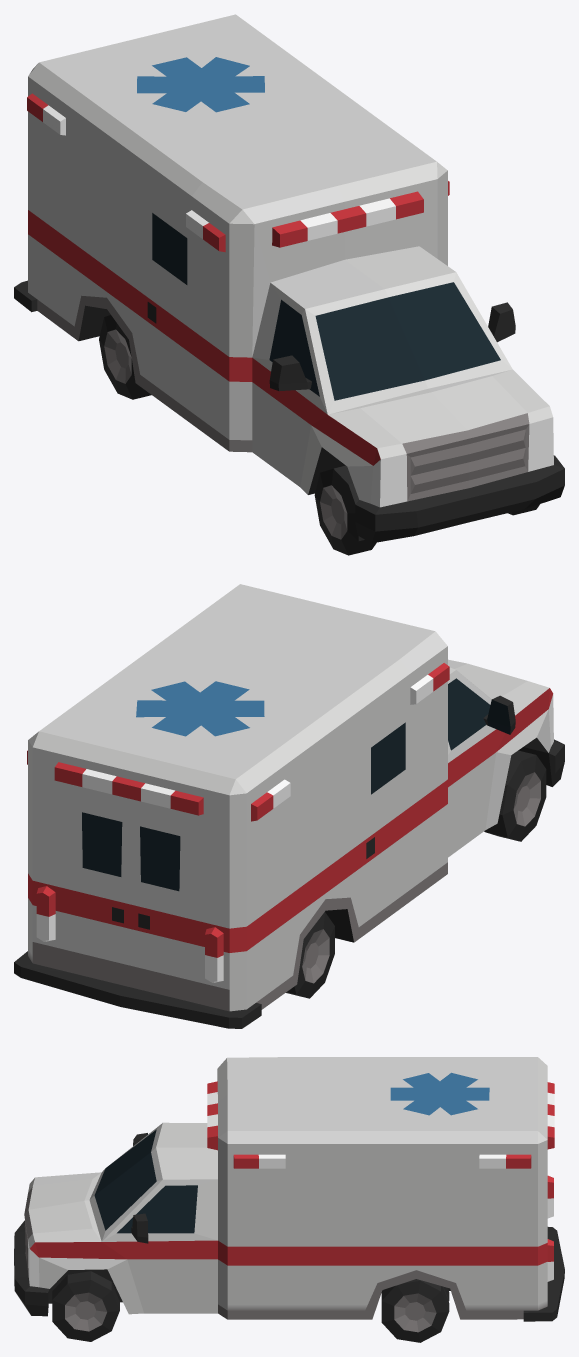
The model's file is car-ambulance-pickup.glb.
3 renders of one model, top to bottom at view 1: azimuth 30°, elevation 25°; view 2: azimuth 150°, elevation 25°; view 3: azimuth 270°, elevation 25°, orthographic. The views are drawn at different scales.
Parts seen in each view (by area): view 1: car-ambulance-pickup-base, car-ambulance-pickup-wheel_FR, car-ambulance-pickup-wheel_BR; view 2: car-ambulance-pickup-base, car-ambulance-pickup-wheel_FR, car-ambulance-pickup-wheel_BR; view 3: car-ambulance-pickup-base, car-ambulance-pickup-wheel_FL, car-ambulance-pickup-wheel_BL.
Boxes of the visible parts, <box> form: car-ambulance-pickup-base: <box>14,14,564,543</box>; car-ambulance-pickup-wheel_FR: <box>314,465,376,555</box>; car-ambulance-pickup-wheel_BR: <box>99,315,151,399</box>; car-ambulance-pickup-base: <box>14,584,564,1028</box>; car-ambulance-pickup-wheel_FR: <box>484,750,546,841</box>; car-ambulance-pickup-wheel_BR: <box>286,912,334,998</box>; car-ambulance-pickup-base: <box>14,1057,564,1321</box>; car-ambulance-pickup-wheel_FL: <box>52,1271,119,1341</box>; car-ambulance-pickup-wheel_BL: <box>381,1279,449,1342</box>.
Bounding box in the file's own units: 2.43 × 2.66 × 6.24.
1 material, 1 textured.
